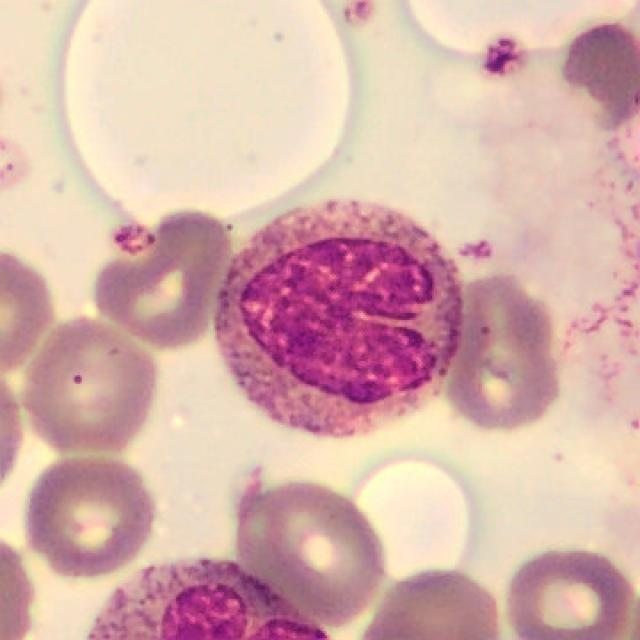Bastonete: (212, 199, 466, 439)
